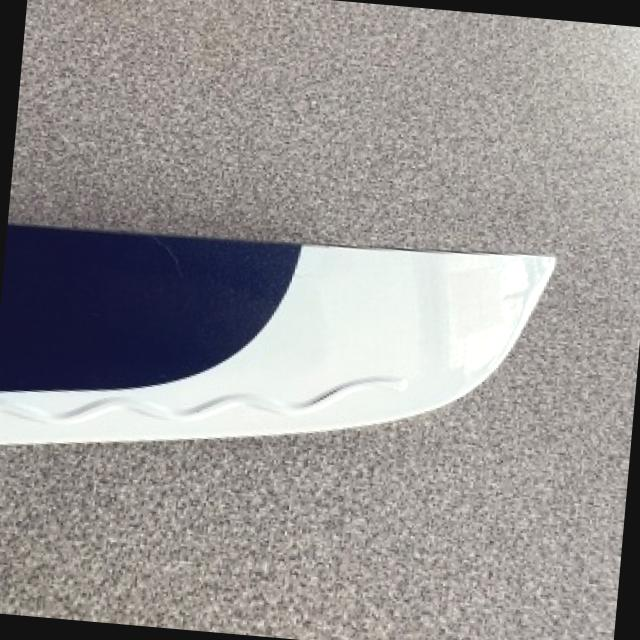healthy: (0, 222, 550, 438)
